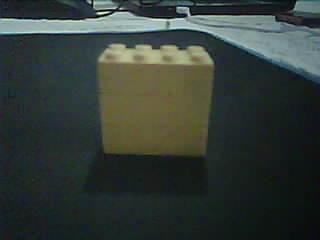lego: (96, 41, 217, 157)
